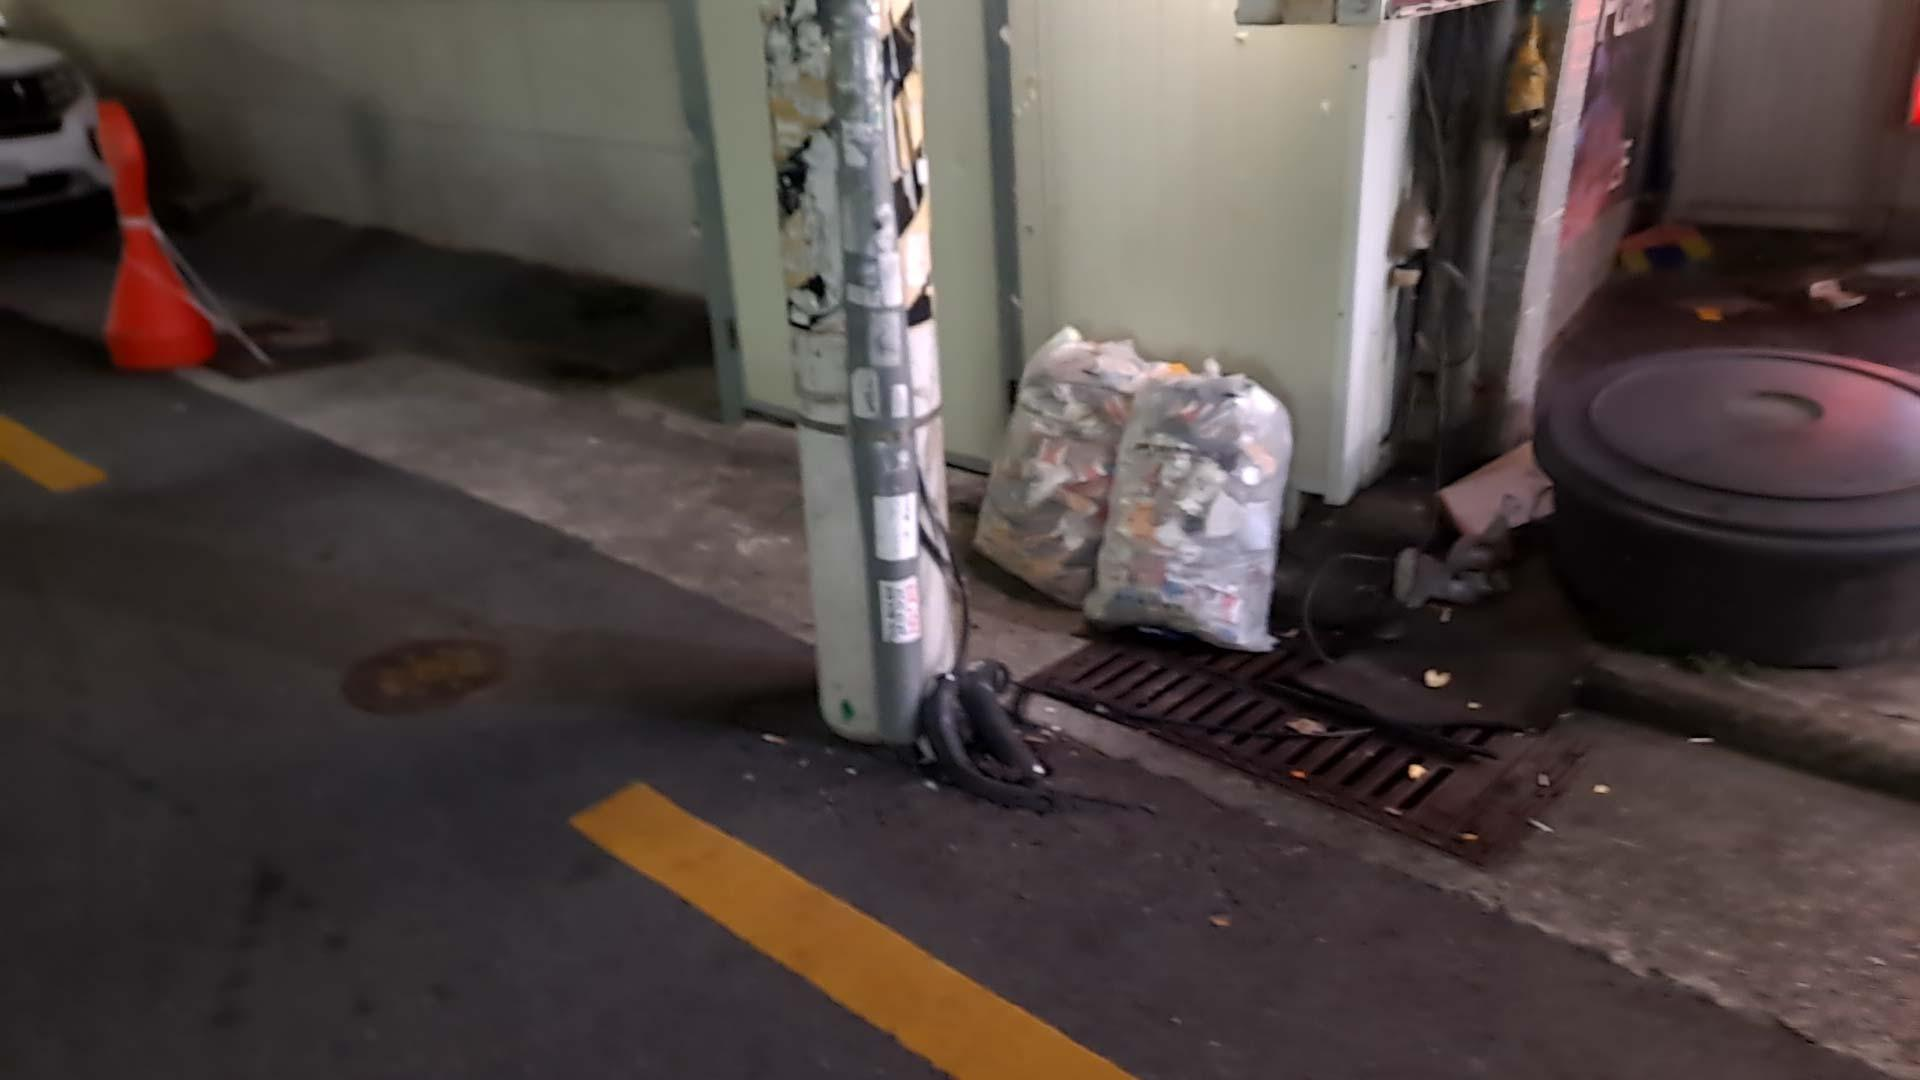white_bag: (1077, 340, 1287, 662), (965, 313, 1185, 615)
